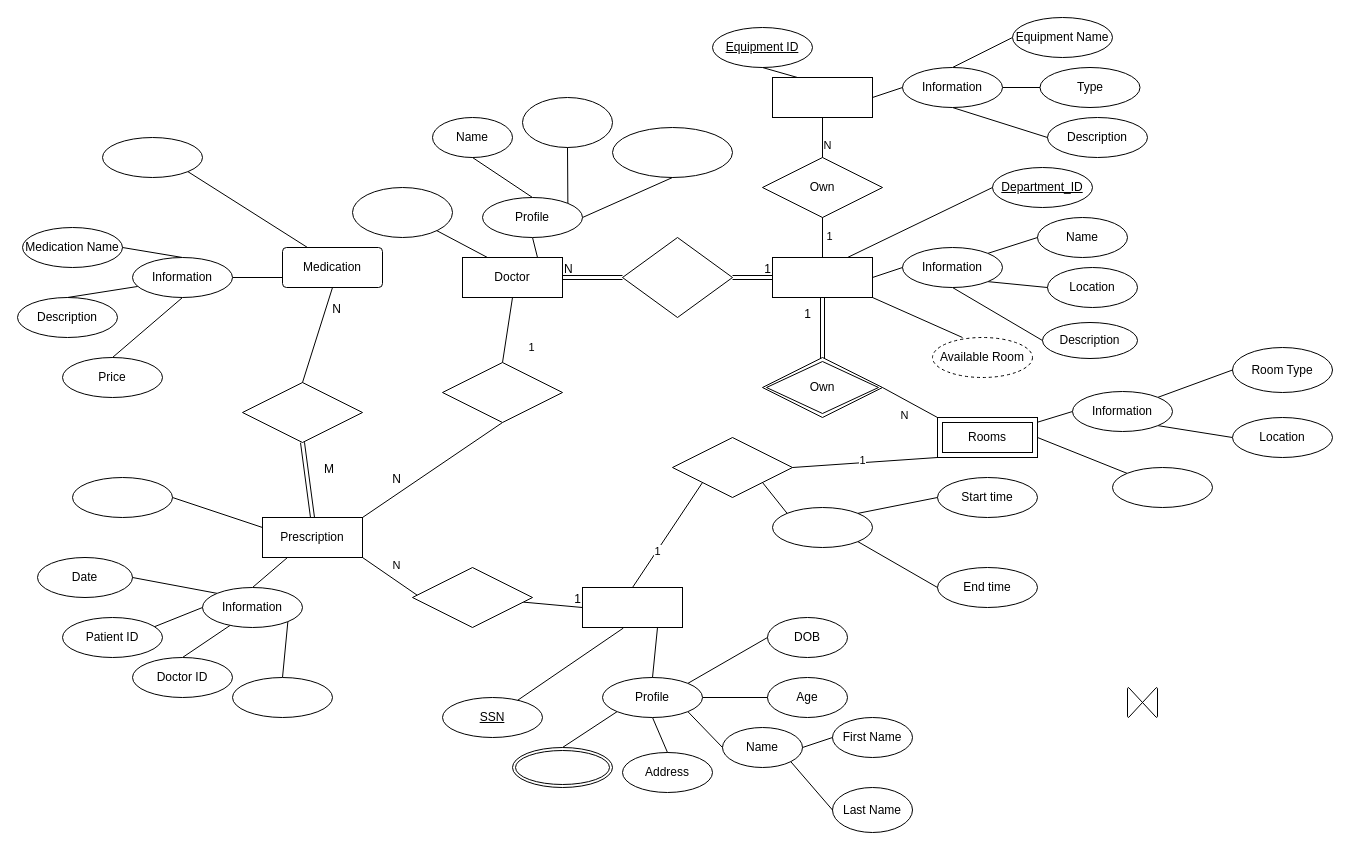
This 1350x850 diagram has some shape labels left out. The centre of each missing label's shape, as x and y in pixels:
Assign: point 732,467
Department: point 822,277
DRoomID: point 1162,487
Equipment: point 822,97
Have: point 302,412
Medication ID: point 282,697
Medication_ID: point 152,157
Patient: point 632,607
Phone Number: point 562,767
Prescribed: point 502,392
Prescription_id: point 122,497
Received: point 472,597
Specialty: point 567,122
Staff_ID: point 402,212
Time Period: point 822,527
Work: point 677,277
Years of experience: point 672,152
